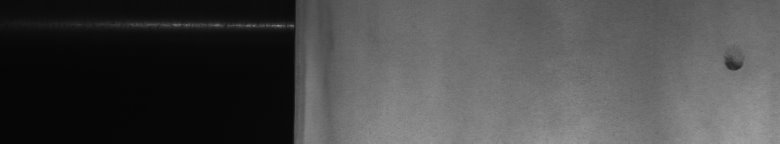fi: (719, 52, 747, 78)
